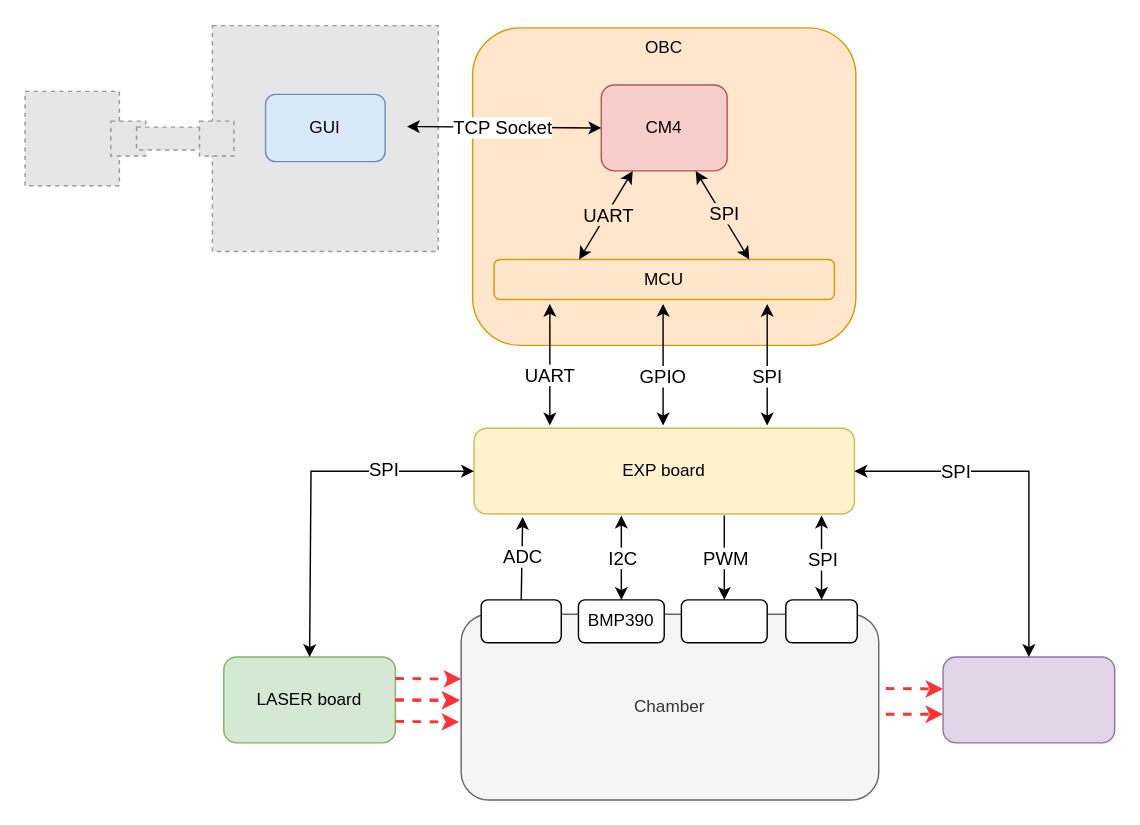
Some shapes in this 1140 by 825 pixel diagram are drawn without their labels. Grey dashed boxes stand in for pictures. The shapes that lost their labels are listed below. From the top down, each one's centre as x and y in pixels, then its label:
At point 520,620: "NTC x8".
At point 723,620: "HEATER".
At point 820,620: "TEC x4".
At point 1028,699: "PHOTO board".
